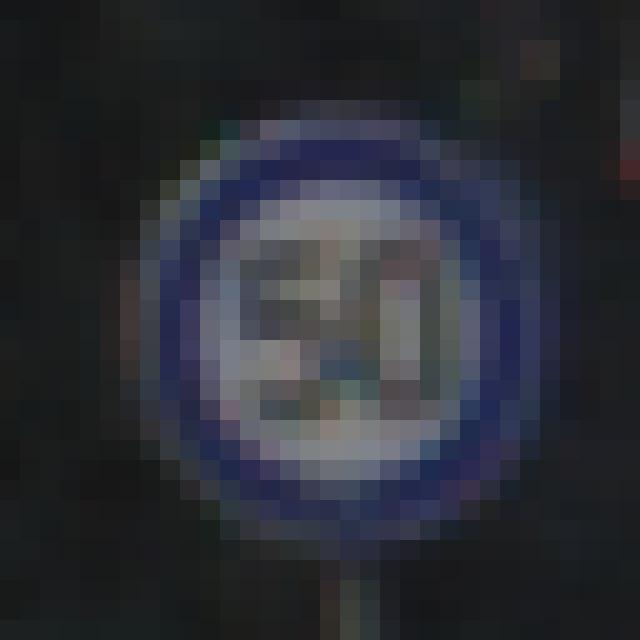SPEED LIMIT 50: (164, 172, 524, 532)
